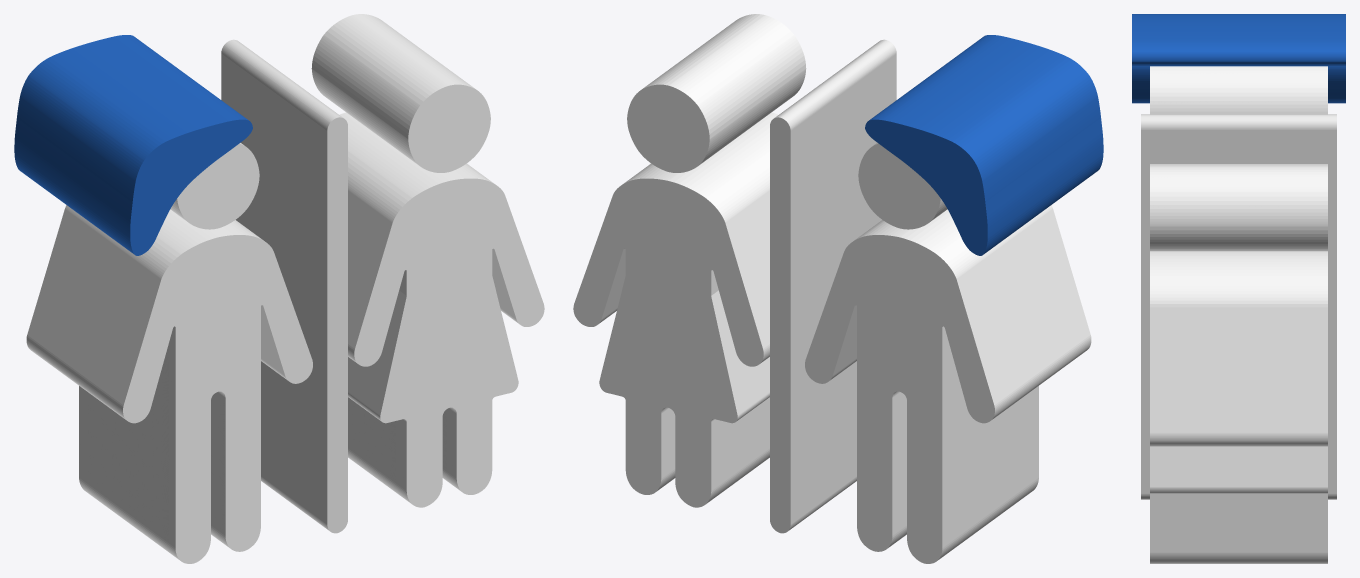
3 renders of one model, left to right at view 1: azimuth 30°, elevation 25°; view 2: azimuth 150°, elevation 25°; view 3: azimuth 270°, elevation 25°, orthographic. The views are drawn at different scales.
Visible parts, largest first — view 1: U+1F6BB_layer00_obj03, U+1F6BB_layer00_obj02, U+1F6BB_layer01_obj00, U+1F6BB_layer02_obj00, U+1F6BB_layer00_obj00, U+1F6BB_layer00_obj01; view 2: U+1F6BB_layer00_obj03, U+1F6BB_layer00_obj02, U+1F6BB_layer01_obj00, U+1F6BB_layer02_obj00, U+1F6BB_layer00_obj00, U+1F6BB_layer00_obj01; view 3: U+1F6BB_layer00_obj02, U+1F6BB_layer01_obj00, U+1F6BB_layer00_obj00, U+1F6BB_layer02_obj00, U+1F6BB_layer00_obj01.
Boxes of the visible parts, <box> form: U+1F6BB_layer00_obj03: <box>26,205,312,563</box>; U+1F6BB_layer00_obj02: <box>339,112,544,507</box>; U+1F6BB_layer01_obj00: <box>221,39,347,533</box>; U+1F6BB_layer02_obj00: <box>14,35,252,255</box>; U+1F6BB_layer00_obj00: <box>311,14,490,172</box>; U+1F6BB_layer00_obj01: <box>170,143,259,229</box>; U+1F6BB_layer00_obj03: <box>805,205,1091,563</box>; U+1F6BB_layer00_obj02: <box>573,112,778,507</box>; U+1F6BB_layer01_obj00: <box>770,39,896,533</box>; U+1F6BB_layer02_obj00: <box>865,35,1103,255</box>; U+1F6BB_layer00_obj00: <box>627,14,806,172</box>; U+1F6BB_layer00_obj01: <box>858,143,947,229</box>; U+1F6BB_layer00_obj02: <box>1150,251,1327,563</box>; U+1F6BB_layer01_obj00: <box>1141,114,1336,499</box>; U+1F6BB_layer00_obj00: <box>1150,164,1327,251</box>; U+1F6BB_layer02_obj00: <box>1132,14,1345,103</box>; U+1F6BB_layer00_obj01: <box>1150,66,1327,114</box>.
Bounding box in the file's own units: 0.2537 × 0.2534 × 0.12.
